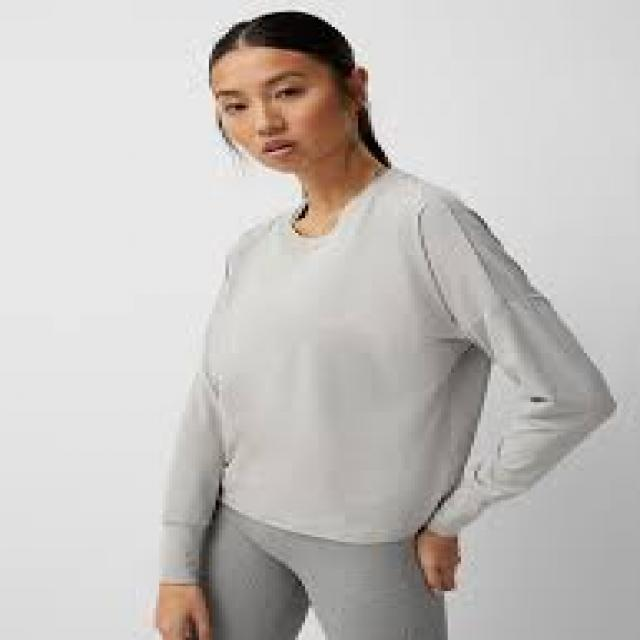plain: (102, 187, 587, 558)
